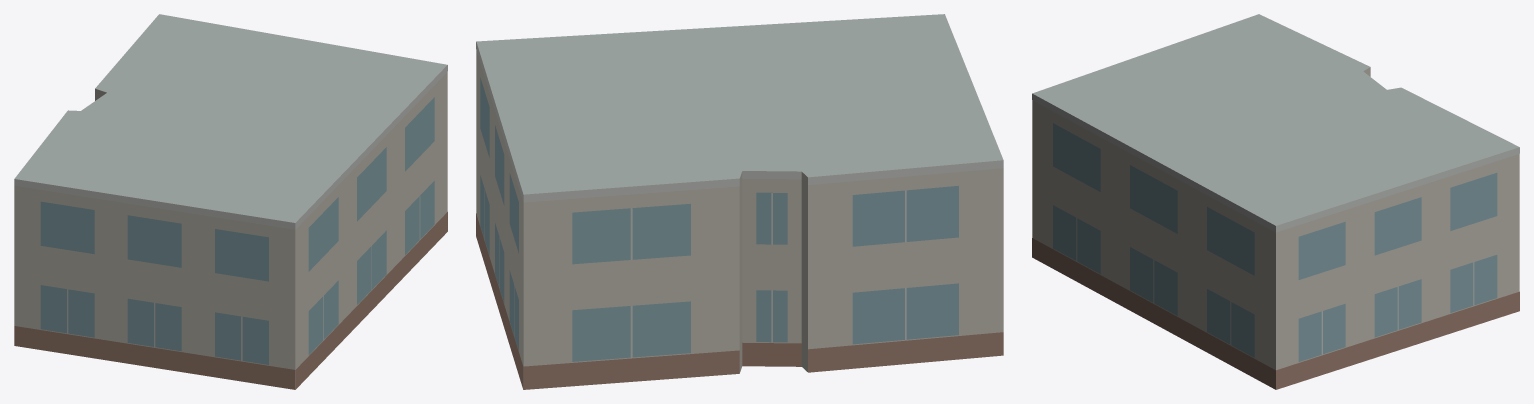
The model's file is survey-upis-32977891.glb.
3 views of the same model, side by side, from view 1: azimuth 30°, elevation 25°; view 2: azimuth 150°, elevation 25°; view 3: azimuth 270°, elevation 25° (orthographic). The views are drawn at different scales.
Visible parts, largest first — view 1: survey-upis-32977891.tmp; view 2: survey-upis-32977891.tmp; view 3: survey-upis-32977891.tmp.
Boxes of the visible parts, x1,y1,x2,y2 form: survey-upis-32977891.tmp: (14,14,447,389); survey-upis-32977891.tmp: (476,14,1003,389); survey-upis-32977891.tmp: (1032,14,1519,389).
Size of the model in its own units: 16.92 by 6.1 by 16.45.
